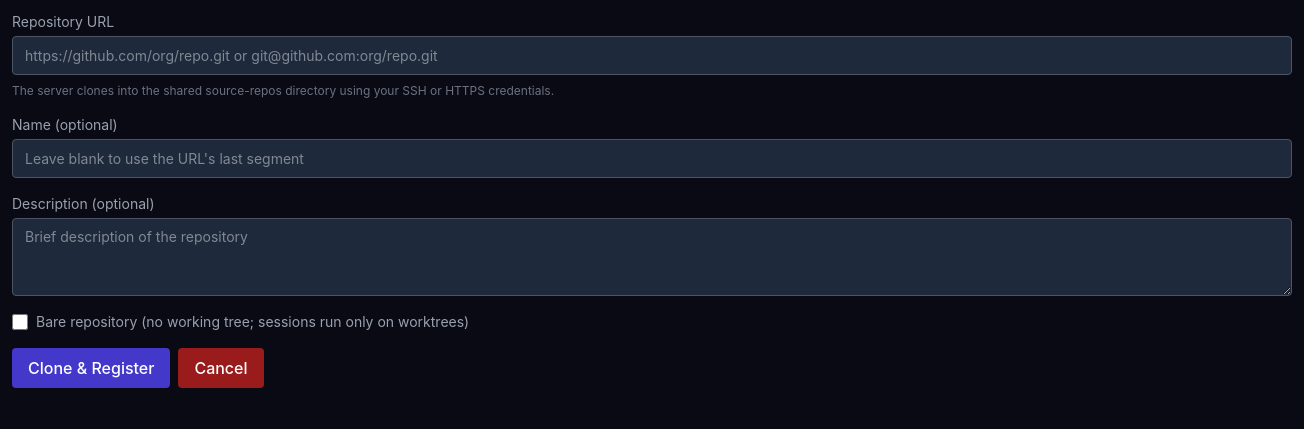
Test: CloneFromUrlForm › validation › blocks submission when URL is empty
Step 1. Click the button "Clone & Register" → [91, 368], box top-left (12, 348), bottom-right (170, 388)
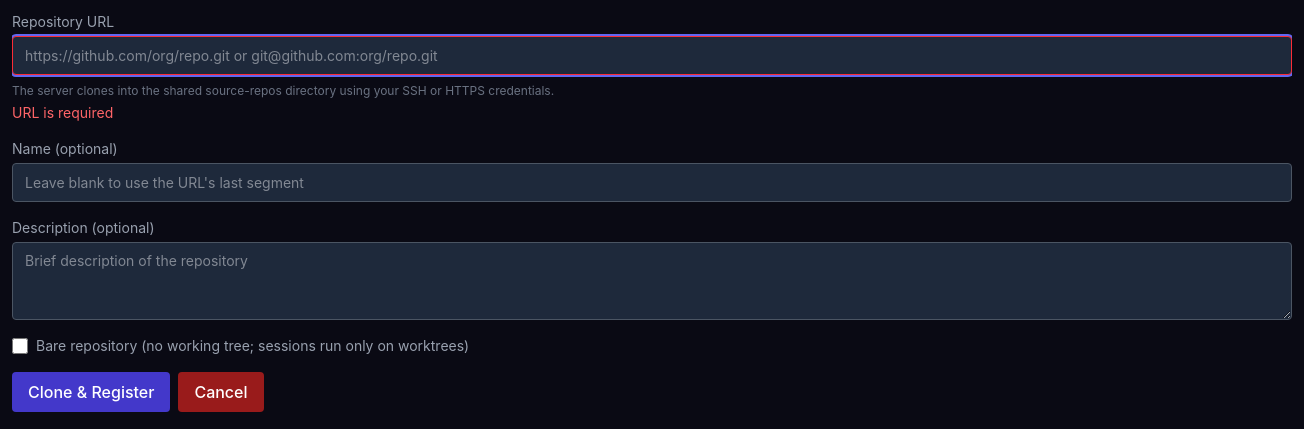
Result: the text "URL is required" is shown at top-left (12, 104), bottom-right (113, 121)
